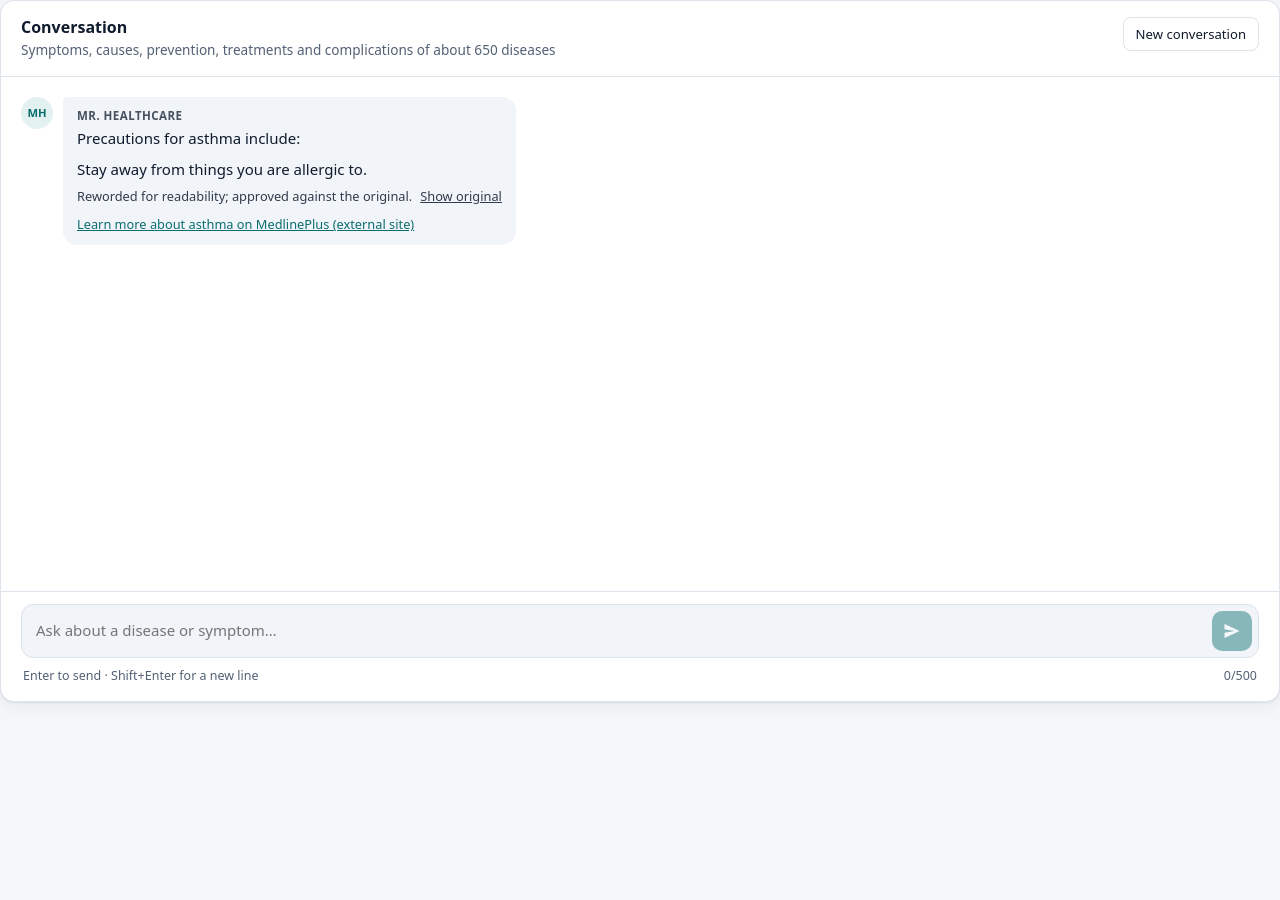
it: ChatPanel › shows an approved rewording first and the original one click away
The width and height of the screenshot is (1280, 900).
Expected: the element with class "reworded" shows "Reworded for readability", [77, 187, 412, 205]
Click the button "Show original": (461, 197) [420, 187, 502, 207]
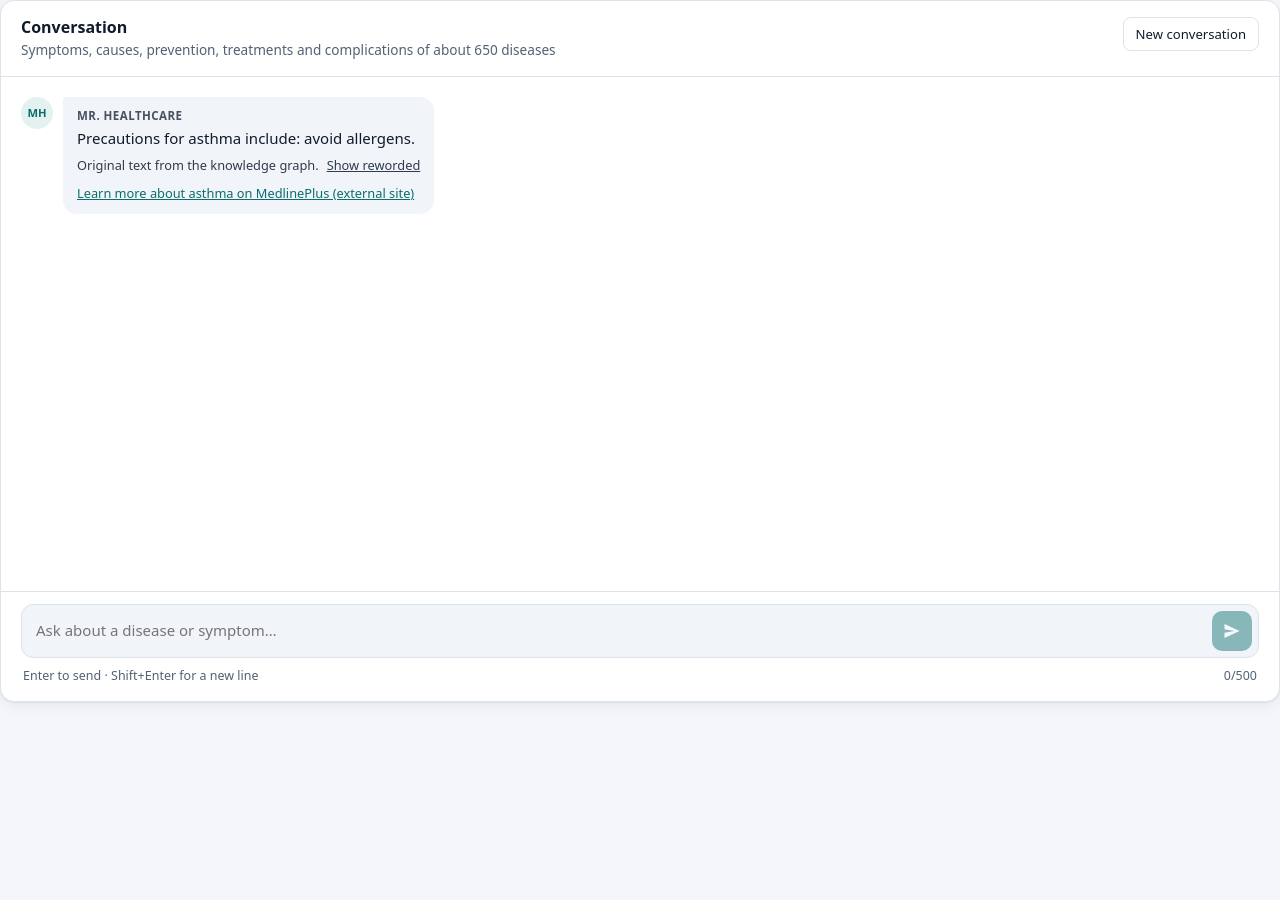
Expected: the text "Precautions for asthma include: avoid allergens." is shown, [77, 127, 420, 150]
Expected: the text "Stay away from things" is gone
Expected: the button "Show reworded" is shown, [327, 156, 420, 176]
